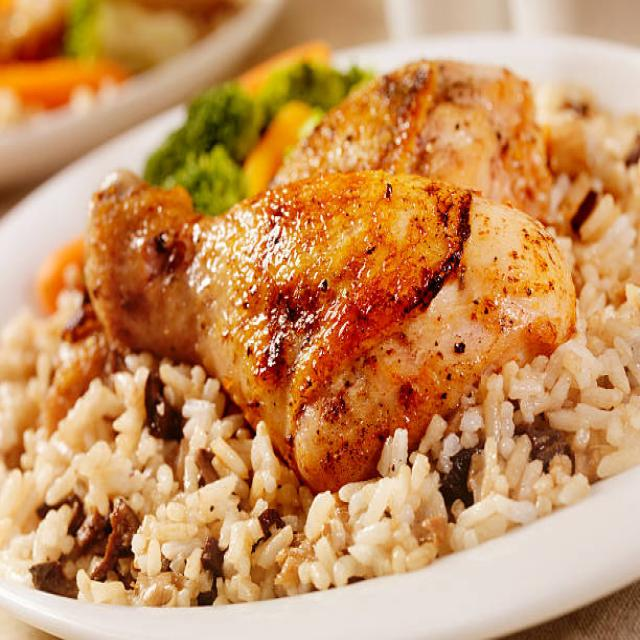Frango: (90, 51, 591, 494)
